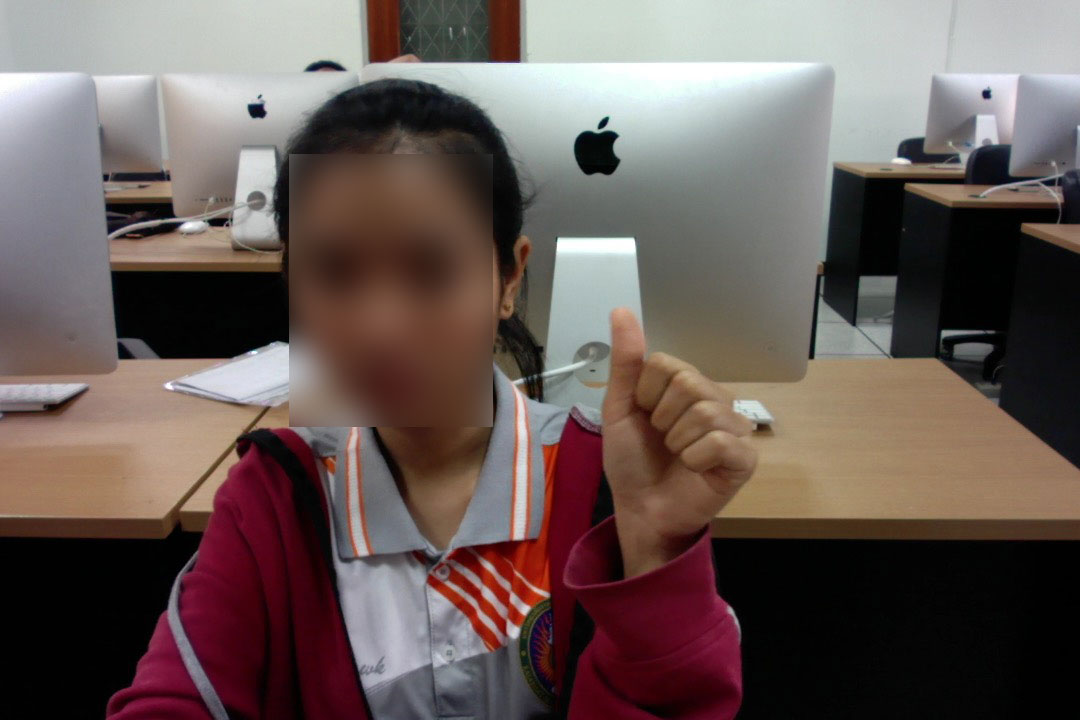or: (590, 294, 769, 558)
